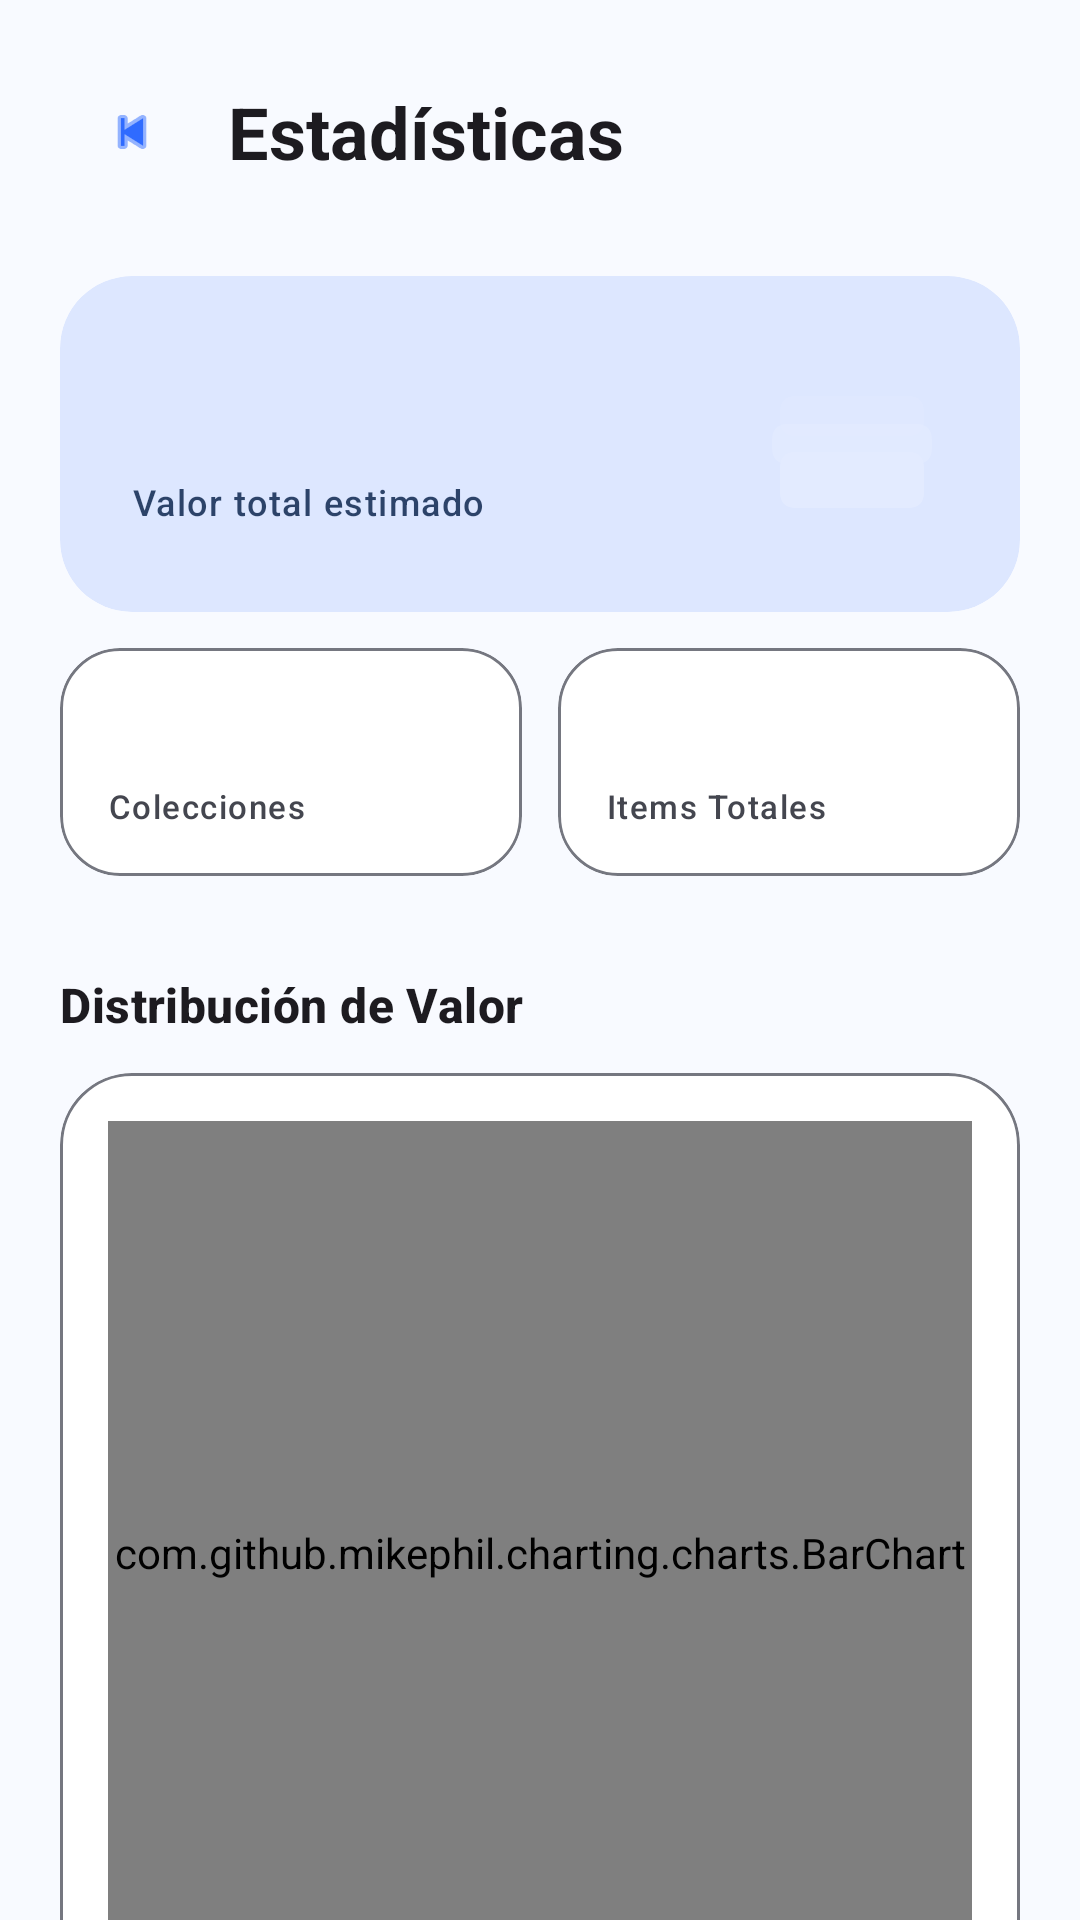

Screen size 1080*1920. Icon name, then its center in pixels as point (x, y):
previous: point (132, 132)
